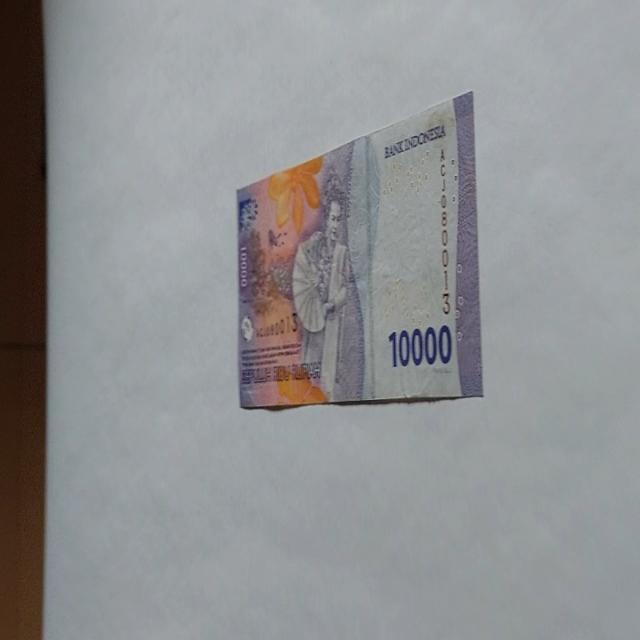sepuluh ribu rupiah: (235, 89, 484, 411), (386, 322, 454, 370)
